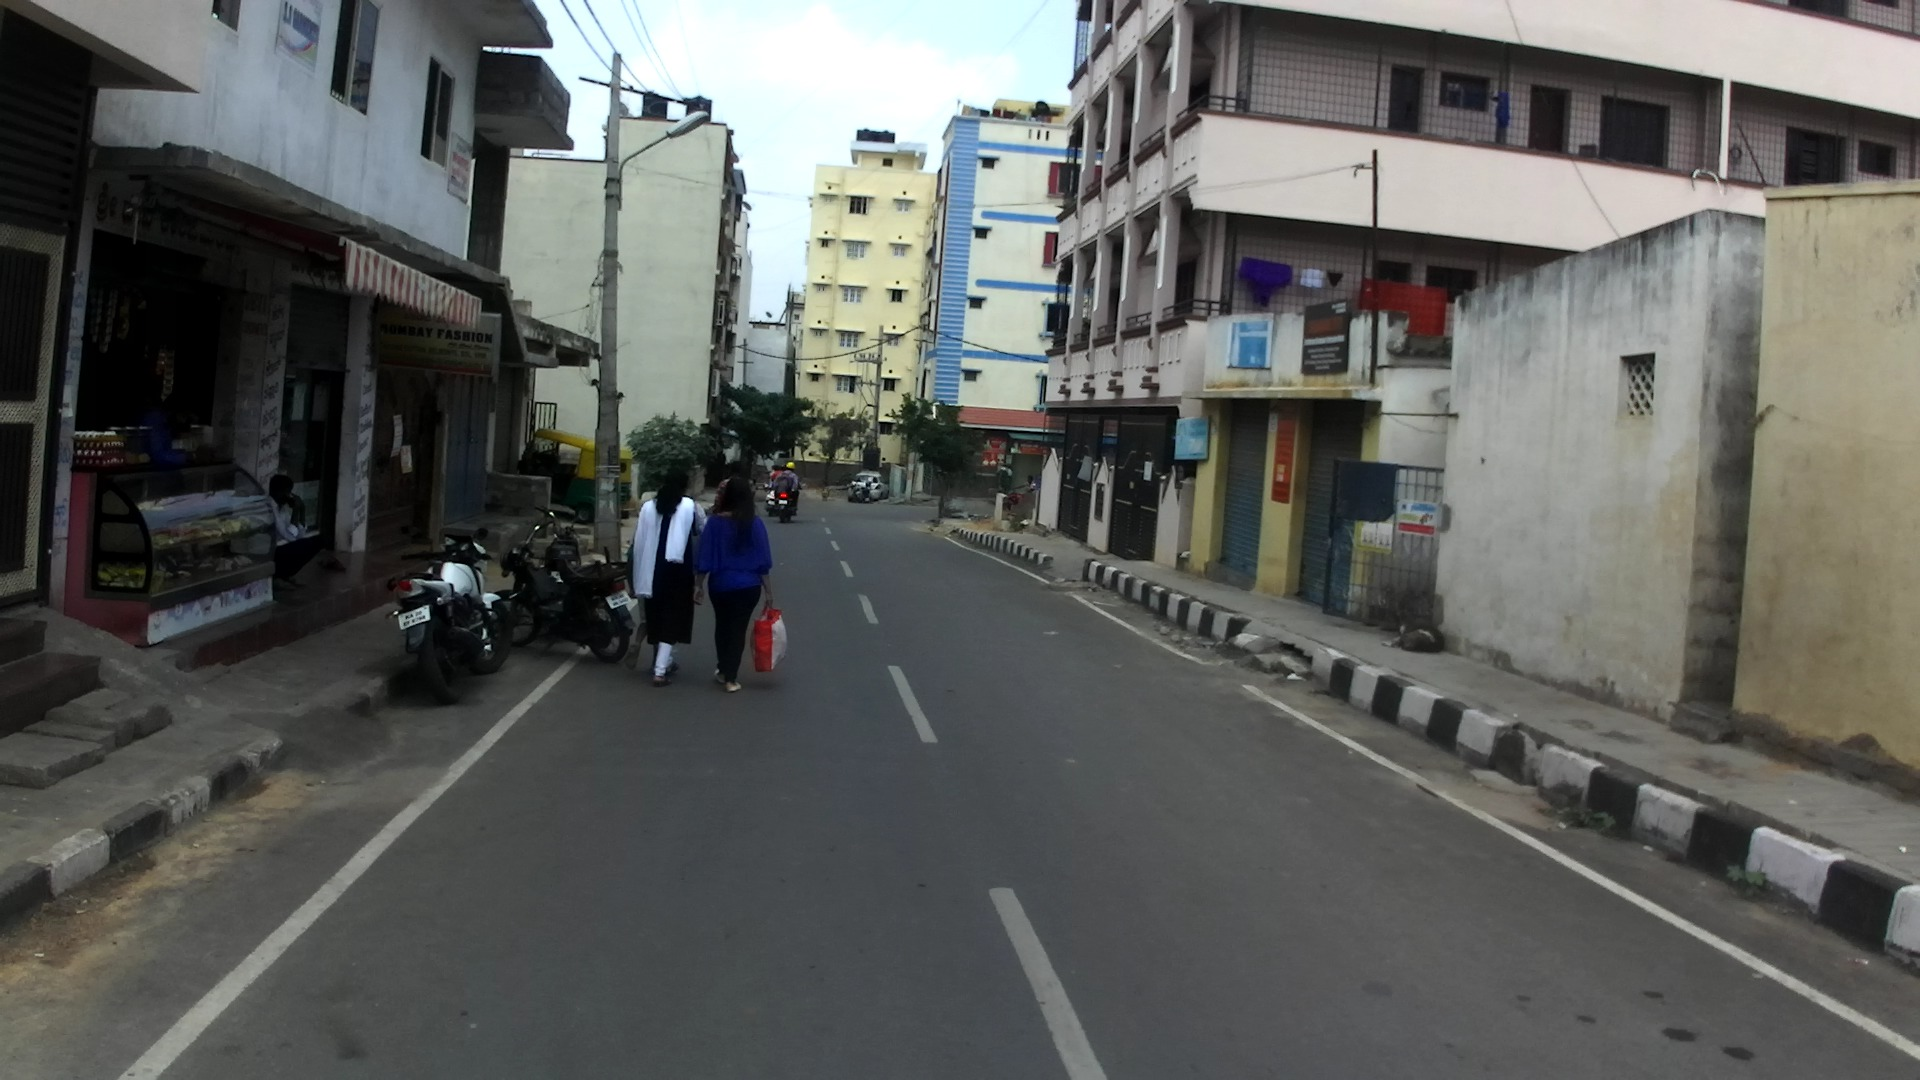autorickshaw: (520, 427, 634, 526)
car: (849, 470, 890, 502)
motorcycle: (386, 524, 514, 705), (491, 515, 636, 663), (536, 502, 581, 575), (775, 483, 799, 524), (765, 484, 783, 517), (1003, 488, 1024, 513), (850, 479, 871, 503)
person: (694, 475, 780, 694), (625, 467, 711, 687), (262, 475, 321, 592), (135, 388, 198, 461)
rider: (775, 463, 800, 514), (769, 464, 786, 495), (1021, 475, 1035, 498)
